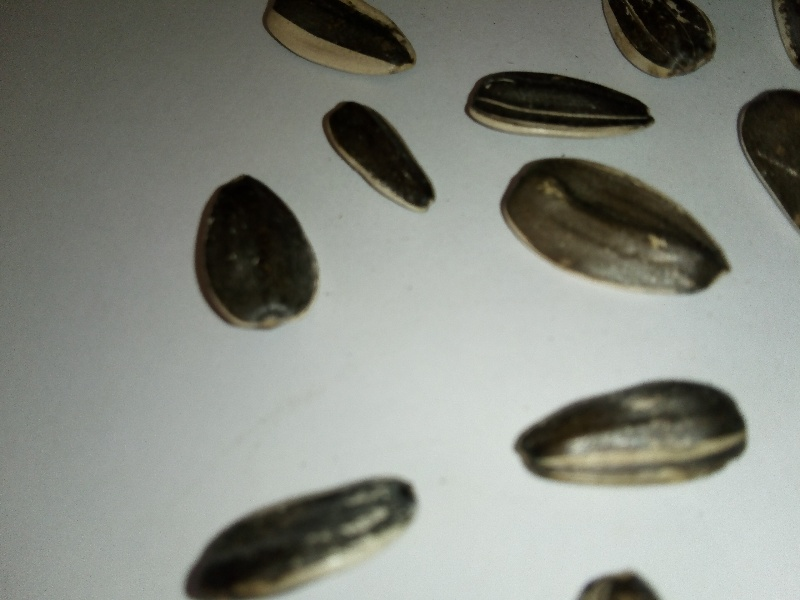girasol: (482, 150, 742, 308), (503, 367, 756, 499), (172, 474, 431, 600), (182, 163, 335, 339), (313, 94, 441, 222)
